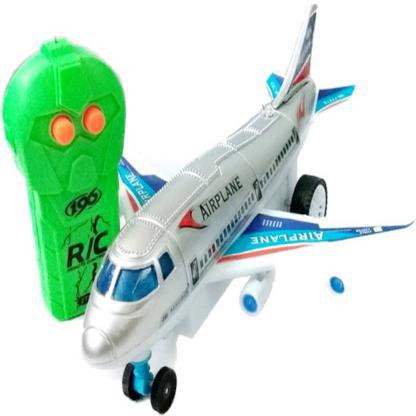CIV_Plane: (78, 5, 407, 372)
